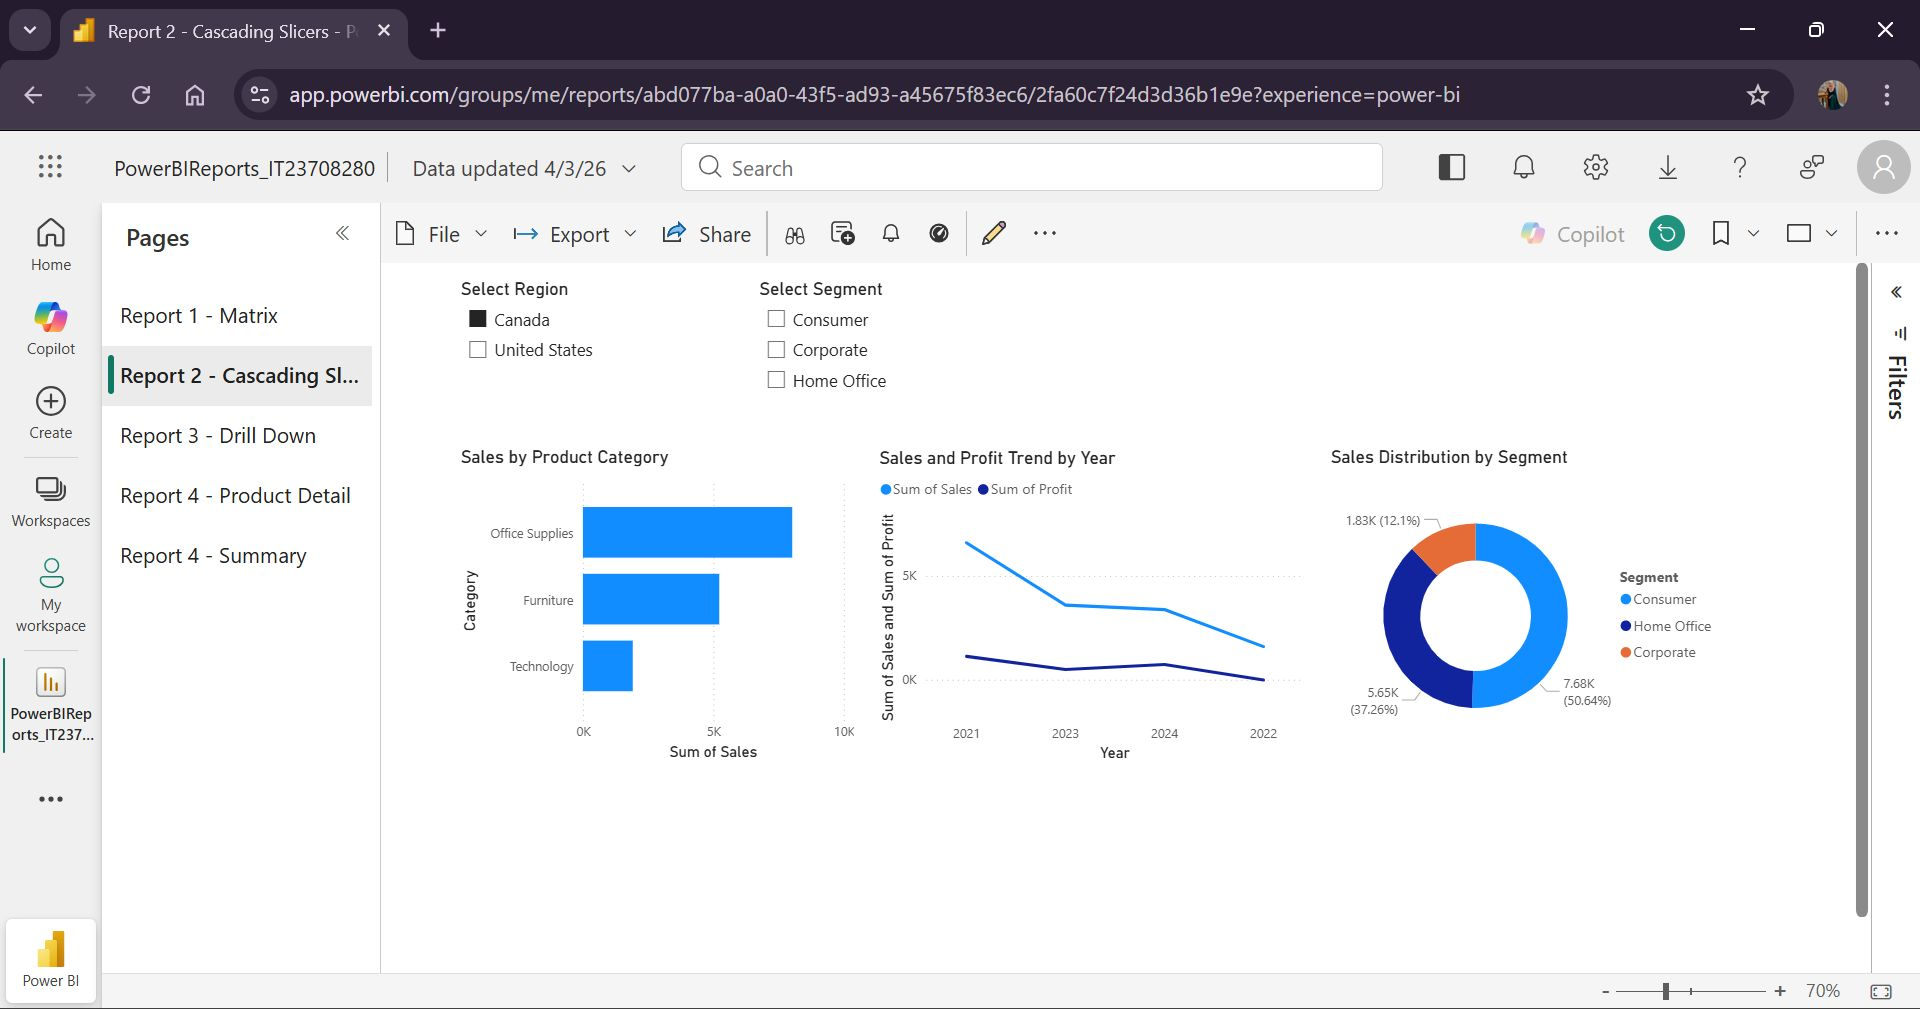

This screenshot's page, from the dashboard's own definition file:
{"tool":"powerbi","page":{"name":"Report 2 - Cascading Slicers","canvas":[1280,720],"ordinal":1},"visuals":[{"type":"slicer","title":"Select Region","fields":{"Values":["DimCustomer.CountryRegion"]},"box":[10,0,272.2,125.6],"z":0},{"type":"slicer","title":"Select Segment","fields":{"Values":["DimCustomer.Segment"]},"box":[294.4,0,270,125.6],"z":1},{"type":"clusteredBarChart","title":"Sales by Product Category","fields":{"Category":["DimProduct.Category"],"Y":["Sum(FactSales.Sales)"]},"box":[10,160,384.4,303.3],"z":2},{"type":"lineChart","title":"Sales and Profit Trend by Year","fields":{"Category":["DimDate.Year"],"Y":["Sum(FactSales.Sales)","Sum(FactSales.Profit)"]},"box":[408.9,161.1,413.3,303.3],"z":3},{"type":"donutChart","title":"Sales Distribution by Segment","fields":{"Category":["DimCustomer.Segment"],"Y":["Sum(FactSales.Sales)"]},"box":[838.9,160,382.2,303.3],"z":4}]}

Visuals, with their boxes on the page's 1280x720 design canvas (x1, y1, x2, y2). These are canvas units, not pixel positions in the 1920x1009 screenshot, which may show the page scaled, cropped or inside an application window:
"Select Region" slicer: pyautogui.locateOnScreen(10, 0, 282, 126)
"Select Segment" slicer: pyautogui.locateOnScreen(294, 0, 564, 126)
"Sales by Product Category" clusteredBarChart: pyautogui.locateOnScreen(10, 160, 394, 463)
"Sales and Profit Trend by Year" lineChart: pyautogui.locateOnScreen(409, 161, 822, 464)
"Sales Distribution by Segment" donutChart: pyautogui.locateOnScreen(839, 160, 1221, 463)
